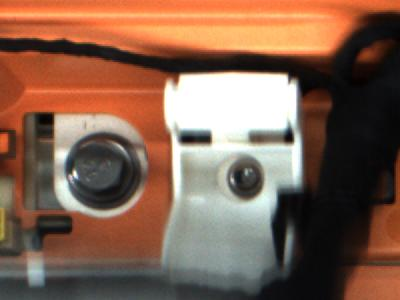nut_b: (60, 135, 139, 207)
